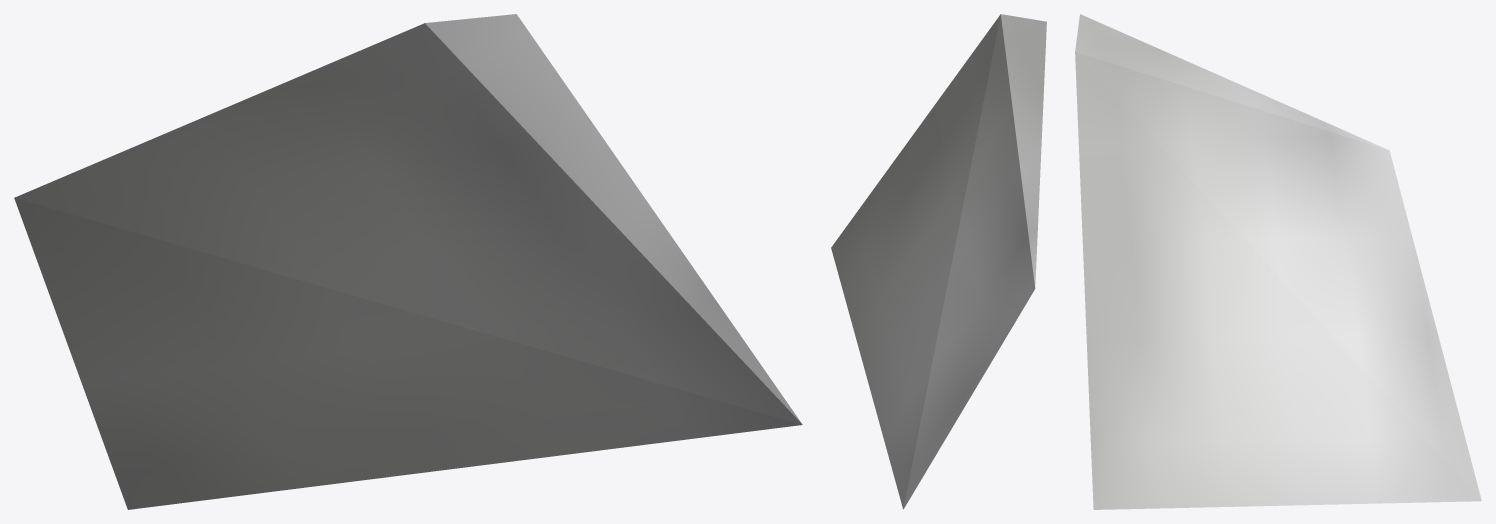
The picture shows the model from 3 angles, left to right: view 1: azimuth 30°, elevation 25°; view 2: azimuth 150°, elevation 25°; view 3: azimuth 270°, elevation 25°; orthographic projection. The views are drawn at different scales.
Size of the model in its own units: 0.0383 by 0.0433 by 0.0324.
1 material, 1 textured.
